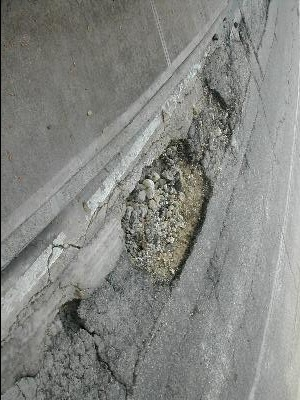pothole: (118, 132, 218, 289), (199, 74, 236, 153), (56, 294, 87, 337), (228, 15, 252, 54), (258, 0, 274, 22)
